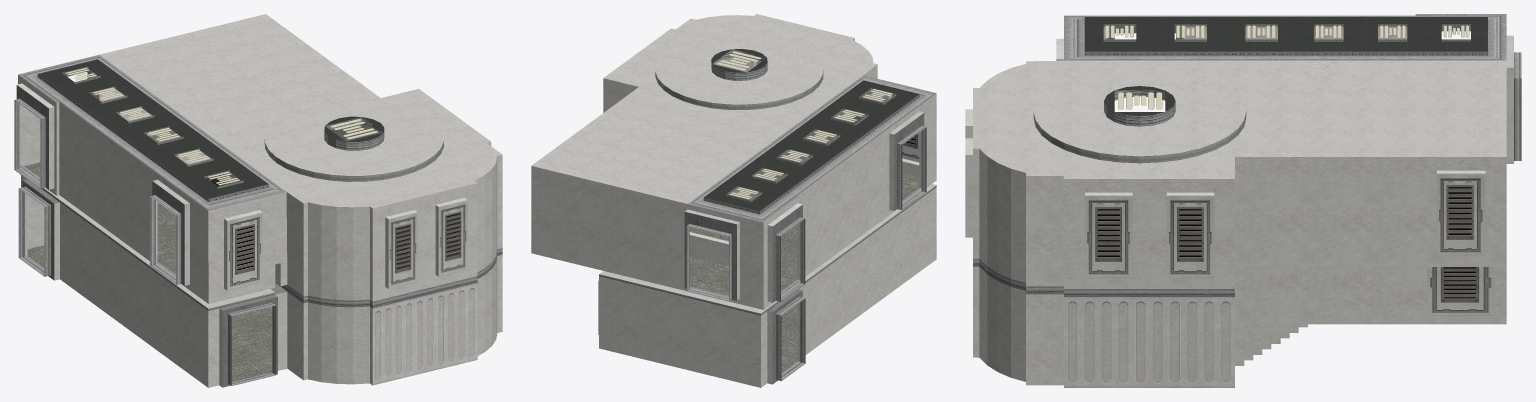
The model's file is ply_all_house_lg_s02_fp1_r3_mainhall_mesh_r3.fbx.
The picture shows the model from 3 angles, left to right: view 1: azimuth 30°, elevation 25°; view 2: azimuth 150°, elevation 25°; view 3: azimuth 270°, elevation 25°; orthographic projection. The views are drawn at different scales.
Parts seen in each view (by area): view 1: mesh_node; view 2: mesh_node; view 3: mesh_node.
Part boxes in pixels (bbox=[...]): mesh_node: bbox=[14, 14, 502, 387]; mesh_node: bbox=[531, 14, 936, 387]; mesh_node: bbox=[965, 14, 1521, 387].
Bounding box in the file's own units: 13.6 × 8.23 × 18.33.
